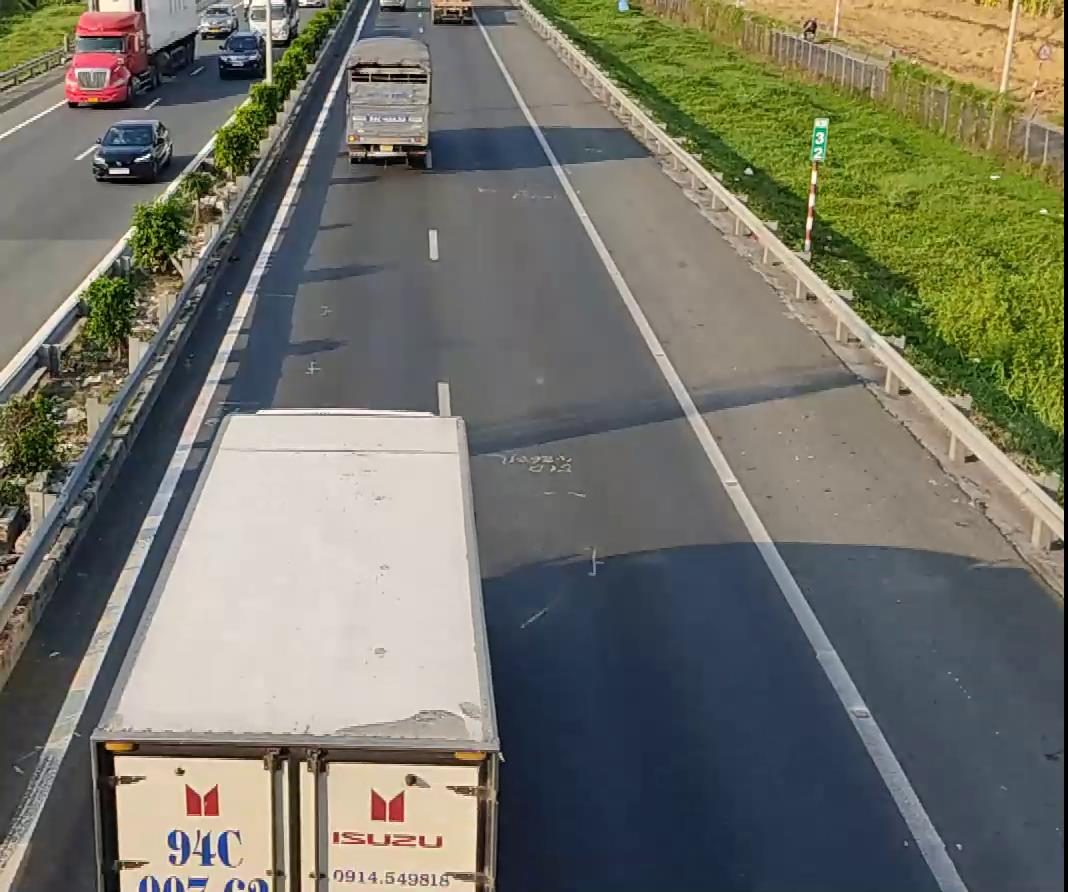car: (90, 117, 172, 181)
truck: (97, 399, 507, 888), (341, 7, 433, 165)
